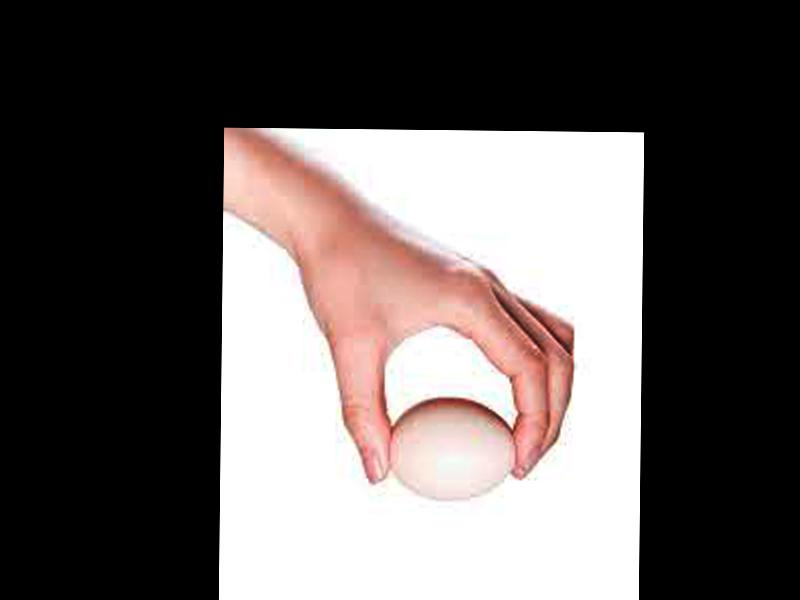Eggs: (387, 397, 517, 501)
